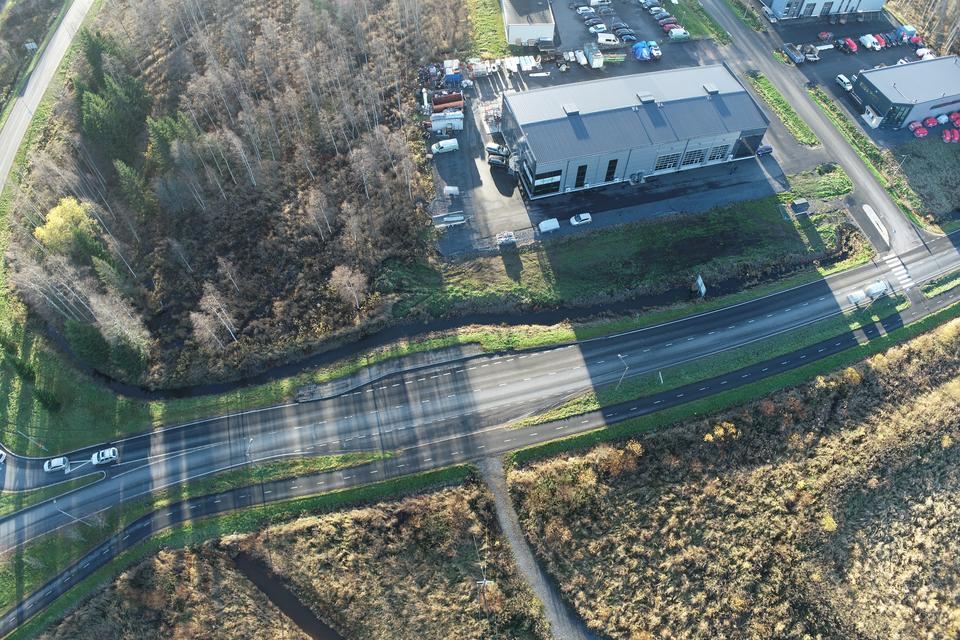intersection: (430, 325, 547, 517), (854, 206, 960, 382)
roundabout: (0, 393, 127, 580)
